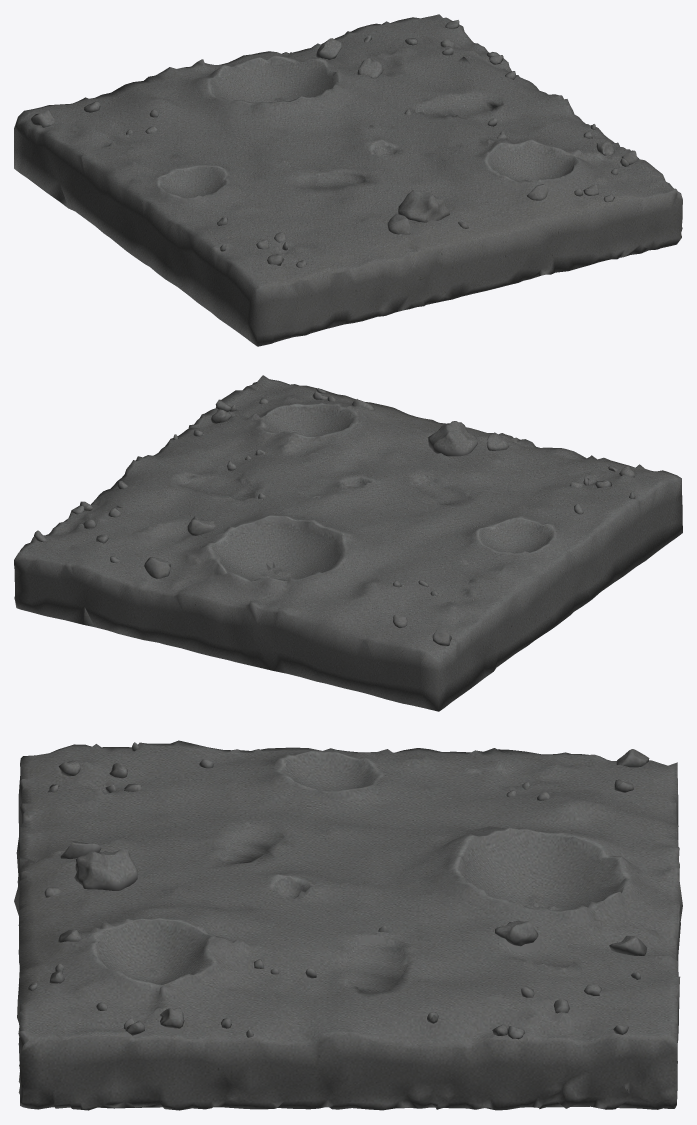
File: MoonTile.fbx
3 renders of one model, top to bottom at view 1: azimuth 30°, elevation 25°; view 2: azimuth 150°, elevation 25°; view 3: azimuth 270°, elevation 25°, orthographic. The views are drawn at different scales.
Parts seen in each view (by area): view 1: Mesh_0; view 2: Mesh_0; view 3: Mesh_0.
Part boxes in pixels (bbox=[...]): Mesh_0: bbox=[14, 14, 682, 346]; Mesh_0: bbox=[14, 375, 682, 711]; Mesh_0: bbox=[14, 740, 682, 1110].
Size of the model in its own units: 96.14 by 17.63 by 95.9.
1 material, 1 textured.
